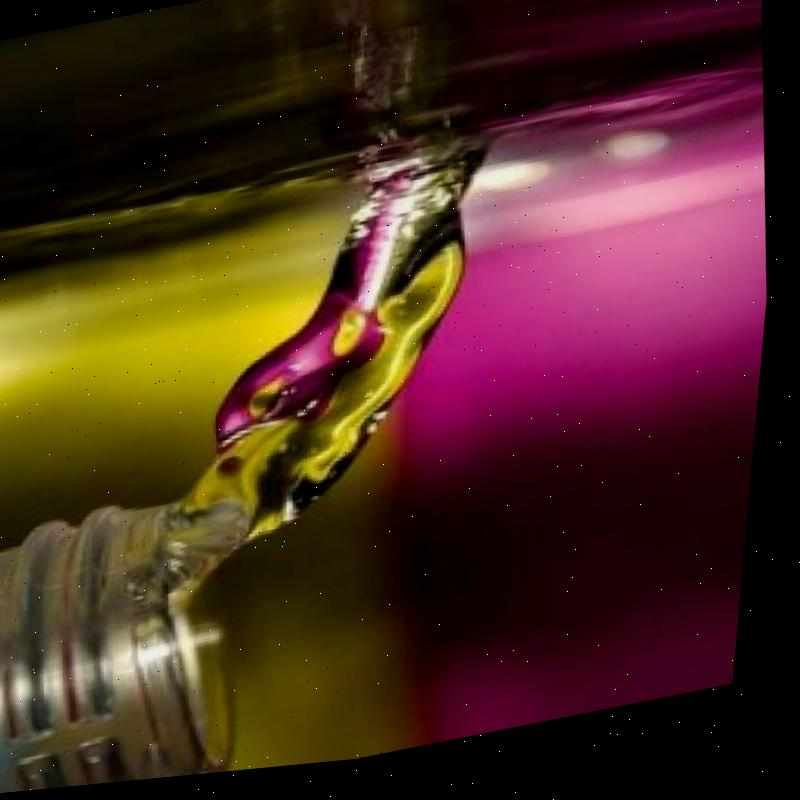botella: (0, 485, 269, 799)
